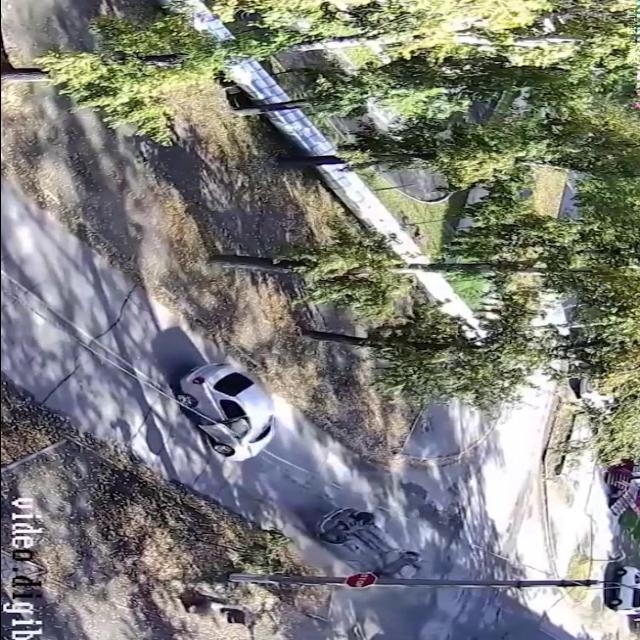accident: (290, 504, 438, 588)
